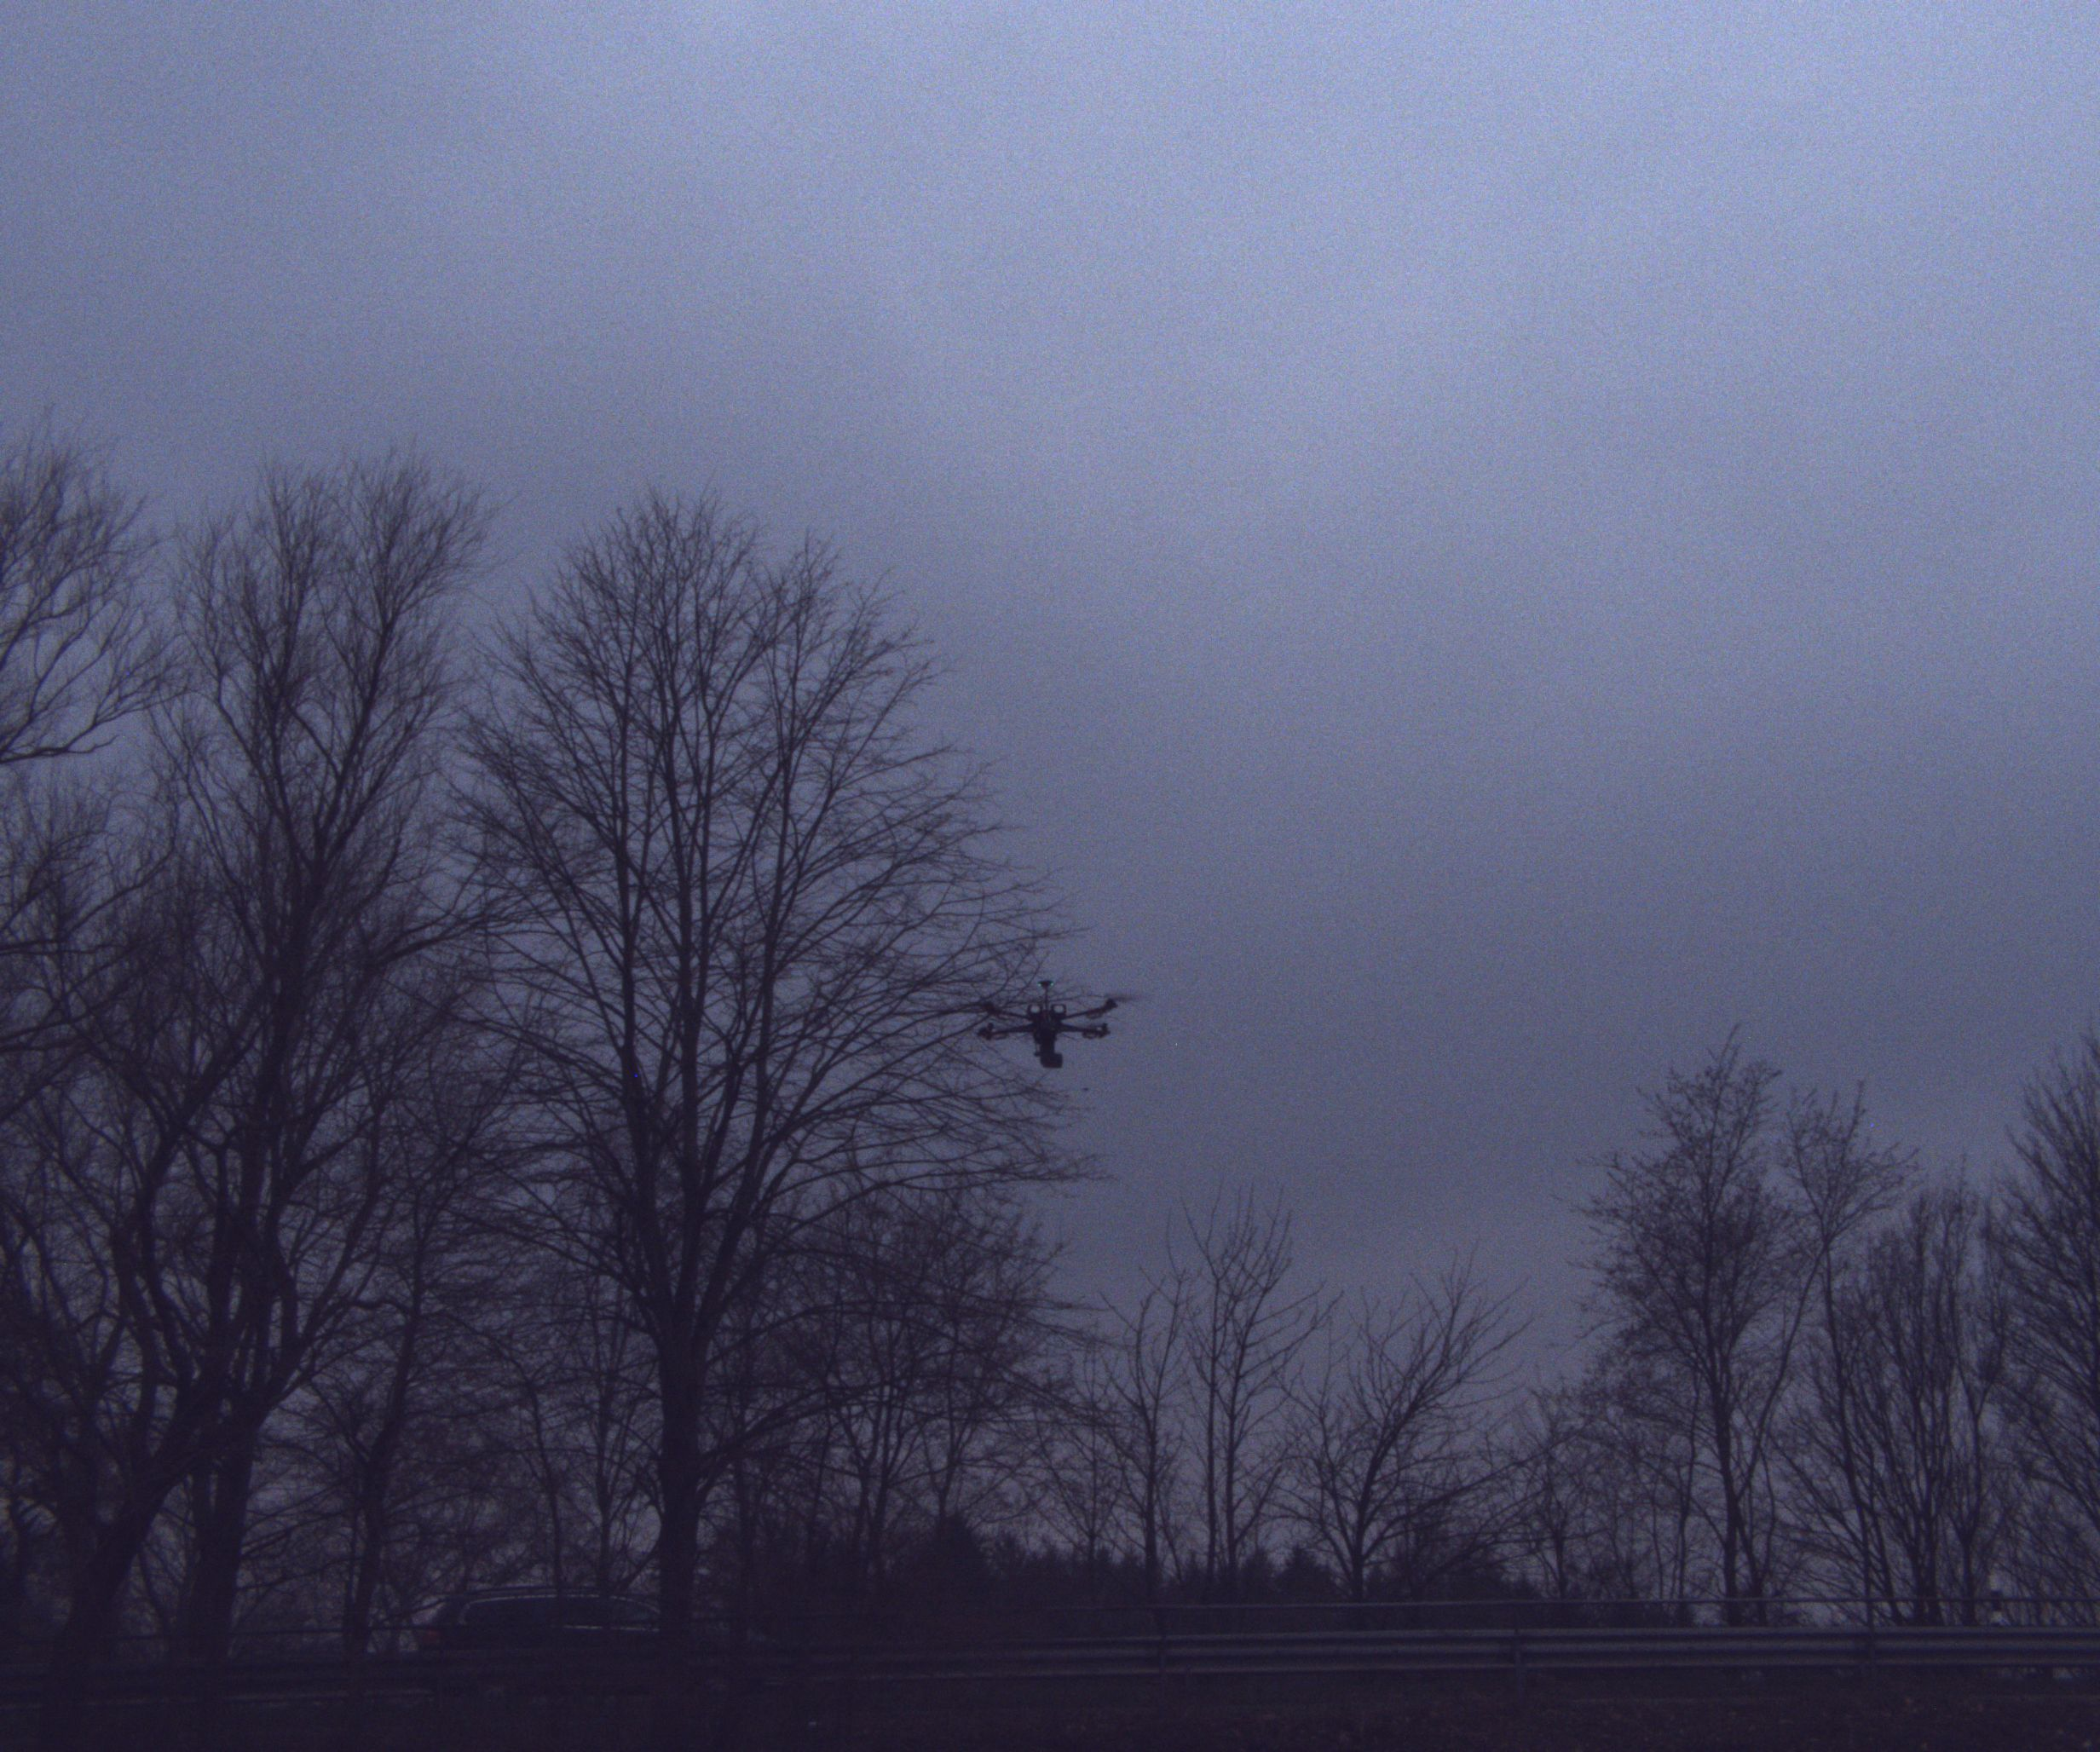Drohne: (947, 952, 1278, 1144)
